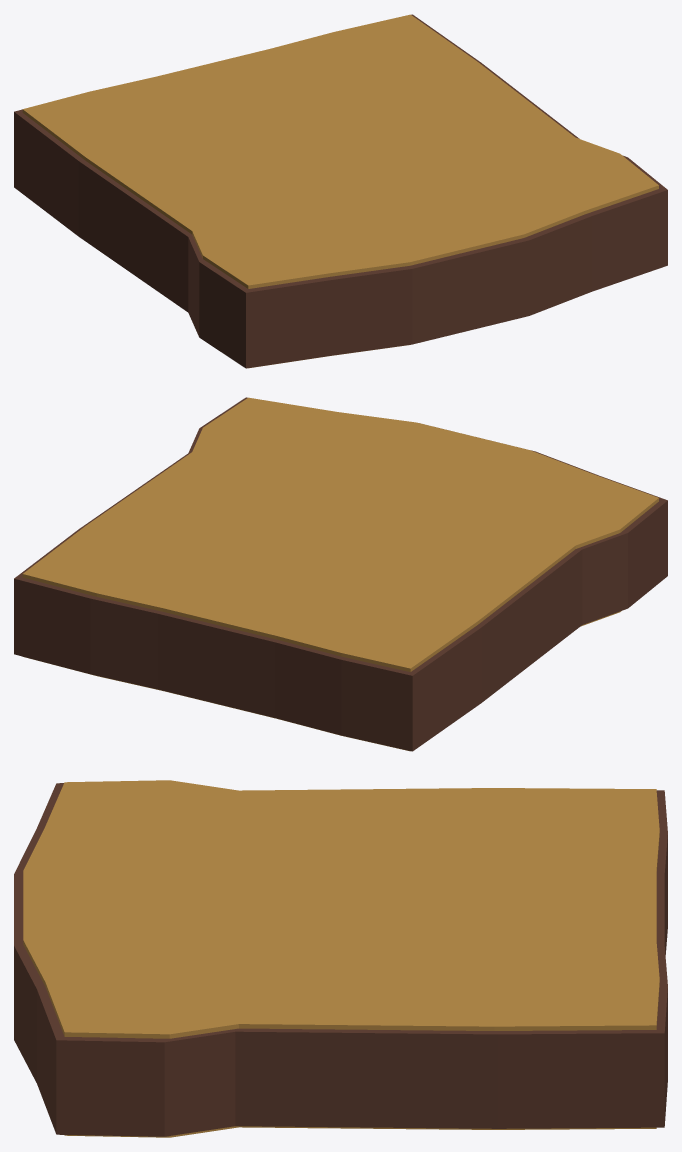
File: toast.dae
3 views of the same model, one above another, from view 1: azimuth 30°, elevation 25°; view 2: azimuth 150°, elevation 25°; view 3: azimuth 270°, elevation 25° (orthographic). The views are drawn at different scales.
Visible parts, largest first — view 1: Cube_004, Cube_003; view 2: Cube_004, Cube_003; view 3: Cube_004, Cube_003.
Part boxes in pixels (bbox=[...]): Cube_004: bbox=[22, 14, 658, 368]; Cube_003: bbox=[14, 14, 667, 368]; Cube_004: bbox=[22, 397, 658, 751]; Cube_003: bbox=[14, 397, 667, 751]; Cube_004: bbox=[23, 780, 659, 1137]; Cube_003: bbox=[14, 783, 667, 1136].
Bounding box in the file's own units: 2.59 × 2.74 × 0.4777.
